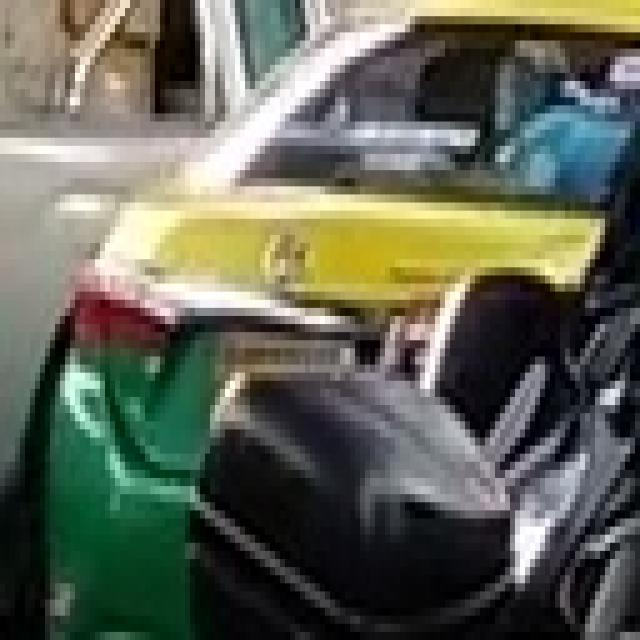helmet: (15, 0, 635, 632)
